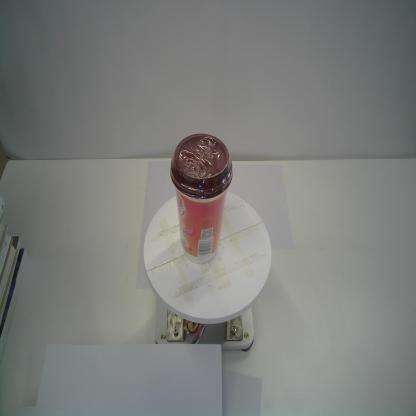Instant Drink: (166, 130, 234, 269)
